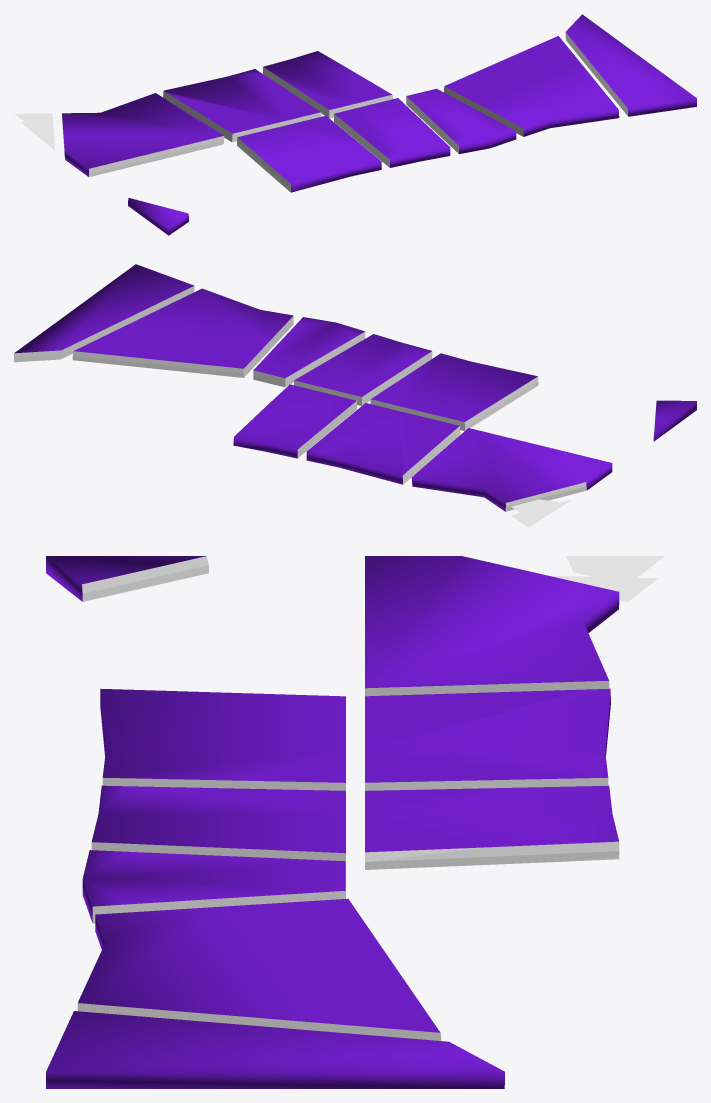
The model's file is Structure_Tower_Knight_Human_03_debris_cells_stone_path.fbx.
3 renders of one model, top to bottom at view 1: azimuth 30°, elevation 25°; view 2: azimuth 150°, elevation 25°; view 3: azimuth 270°, elevation 25°, orthographic. The views are drawn at different scales.
Parts seen in each view (by area): view 1: Structure_Tower_Knight_Human_03.009_cell.010, Structure_Tower_Knight_Human_03.009_cell.011, Structure_Tower_Knight_Human_03.009_cell.004, Structure_Tower_Knight_Human_03.009_cell.014, Structure_Tower_Knight_Human_03.009_cell, Structure_Tower_Knight_Human_03.009_cell.005, Structure_Tower_Knight_Human_03.009_cell.008, Structure_Tower_Knight_Human_03.009_cell.003, Structure_Tower_Knight_Human_03.009_cell.009, Structure_Tower_Knight_Human_03.009_cell.012; view 2: Structure_Tower_Knight_Human_03.009_cell.010, Structure_Tower_Knight_Human_03.009_cell.011, Structure_Tower_Knight_Human_03.009_cell.014, Structure_Tower_Knight_Human_03.009_cell.004, Structure_Tower_Knight_Human_03.009_cell, Structure_Tower_Knight_Human_03.009_cell.008, Structure_Tower_Knight_Human_03.009_cell.005, Structure_Tower_Knight_Human_03.009_cell.003, Structure_Tower_Knight_Human_03.009_cell.009, Structure_Tower_Knight_Human_03.009_cell.012; view 3: Structure_Tower_Knight_Human_03.009_cell.010, Structure_Tower_Knight_Human_03.009_cell.011, Structure_Tower_Knight_Human_03.009_cell, Structure_Tower_Knight_Human_03.009_cell.014, Structure_Tower_Knight_Human_03.009_cell.004, Structure_Tower_Knight_Human_03.009_cell.008, Structure_Tower_Knight_Human_03.009_cell.005, Structure_Tower_Knight_Human_03.009_cell.003, Structure_Tower_Knight_Human_03.009_cell.009, Structure_Tower_Knight_Human_03.009_cell.012, Structure_Tower_Knight_Human_03.009_cell.001.
Part boxes in pixels (<box>): Structure_Tower_Knight_Human_03.009_cell.010: <box>444,36,619,136</box>; Structure_Tower_Knight_Human_03.009_cell.011: <box>62,93,224,176</box>; Structure_Tower_Knight_Human_03.009_cell.004: <box>237,115,381,192</box>; Structure_Tower_Knight_Human_03.009_cell.014: <box>163,69,321,142</box>; Structure_Tower_Knight_Human_03.009_cell: <box>565,14,696,116</box>; Structure_Tower_Knight_Human_03.009_cell.005: <box>334,98,450,167</box>; Structure_Tower_Knight_Human_03.009_cell.008: <box>263,51,393,118</box>; Structure_Tower_Knight_Human_03.009_cell.003: <box>406,88,516,154</box>; Structure_Tower_Knight_Human_03.009_cell.009: <box>128,198,188,235</box>; Structure_Tower_Knight_Human_03.009_cell.012: <box>14,113,53,131</box>; Structure_Tower_Knight_Human_03.009_cell.010: <box>72,288,293,377</box>; Structure_Tower_Knight_Human_03.009_cell.011: <box>411,428,612,511</box>; Structure_Tower_Knight_Human_03.009_cell.014: <box>306,403,460,484</box>; Structure_Tower_Knight_Human_03.009_cell.004: <box>370,353,538,430</box>; Structure_Tower_Knight_Human_03.009_cell: <box>14,264,194,362</box>; Structure_Tower_Knight_Human_03.009_cell.008: <box>233,384,356,458</box>; Structure_Tower_Knight_Human_03.009_cell.005: <box>294,334,432,405</box>; Structure_Tower_Knight_Human_03.009_cell.003: <box>253,317,365,387</box>; Structure_Tower_Knight_Human_03.009_cell.009: <box>653,400,696,441</box>; Structure_Tower_Knight_Human_03.009_cell.012: <box>511,499,558,521</box>; Structure_Tower_Knight_Human_03.009_cell.010: <box>77,898,441,1040</box>; Structure_Tower_Knight_Human_03.009_cell.011: <box>365,556,619,696</box>; Structure_Tower_Knight_Human_03.009_cell: <box>46,1011,504,1088</box>; Structure_Tower_Knight_Human_03.009_cell.014: <box>365,688,610,790</box>; Structure_Tower_Knight_Human_03.009_cell.004: <box>100,688,345,790</box>; Structure_Tower_Knight_Human_03.009_cell.008: <box>365,785,619,869</box>; Structure_Tower_Knight_Human_03.009_cell.005: <box>91,785,345,862</box>; Structure_Tower_Knight_Human_03.009_cell.003: <box>82,850,345,923</box>; Structure_Tower_Knight_Human_03.009_cell.009: <box>46,556,208,601</box>; Structure_Tower_Knight_Human_03.009_cell.012: <box>566,556,664,584</box>; Structure_Tower_Knight_Human_03.009_cell.001: <box>549,575,657,602</box>.
Size of the model in its own units: 386 by 6 by 196.
